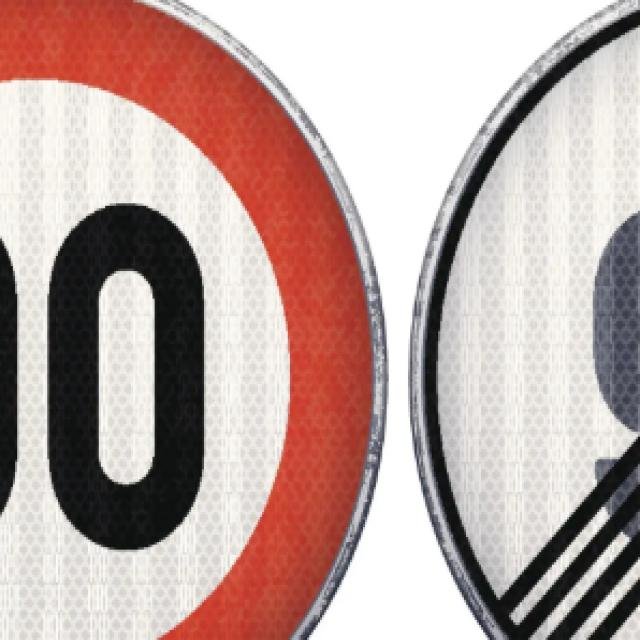Speed Limit -90-: (0, 0, 397, 640)
